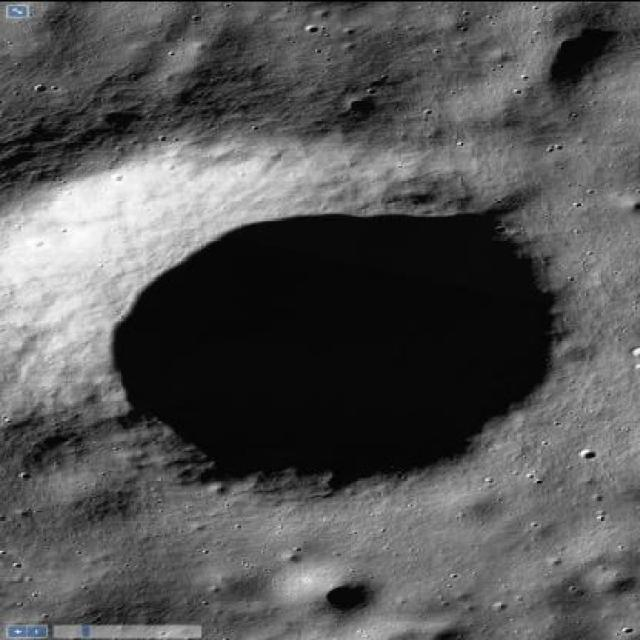crater: (60, 168, 560, 497), (304, 568, 382, 615)
